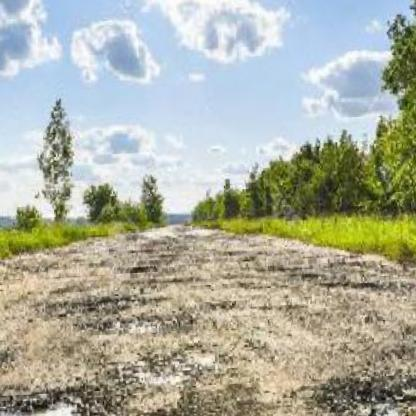pothole: (0, 373, 186, 416), (321, 362, 416, 416)
